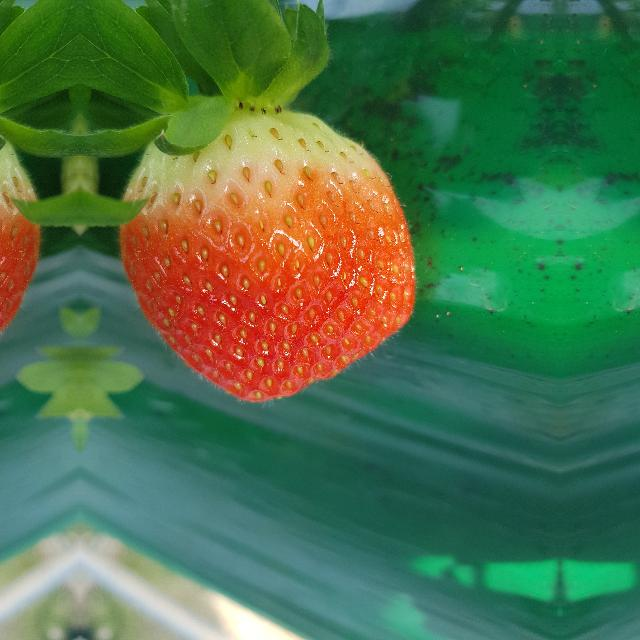Health_75: (118, 105, 416, 403)
